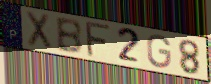2: (115, 27, 144, 69)
8: (176, 39, 201, 76)
B: (54, 17, 84, 56)
F: (85, 20, 113, 58)
G: (146, 33, 172, 70)
X: (24, 9, 54, 52)
